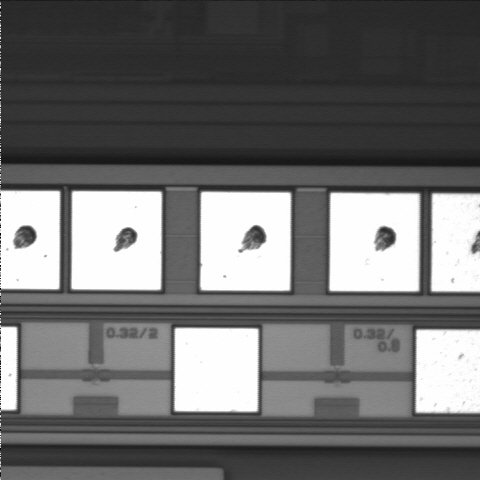pad: (200, 192, 291, 291), (72, 191, 162, 290), (330, 193, 419, 291), (175, 328, 258, 412)
